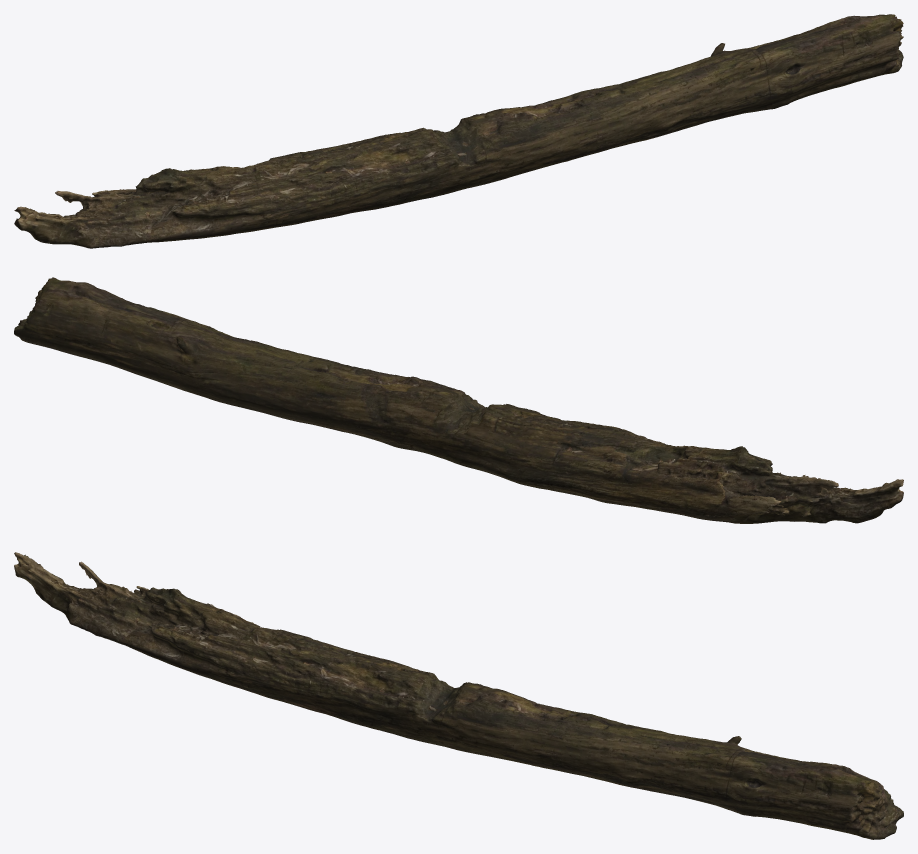
Rendered from dead_tree_trunk.glb.
3 renders of one model, top to bottom at view 1: azimuth 30°, elevation 25°; view 2: azimuth 150°, elevation 25°; view 3: azimuth 330°, elevation 25°, orthographic.
Visible parts, largest first — view 1: dead_tree_trunk; view 2: dead_tree_trunk; view 3: dead_tree_trunk.
Part boxes in pixels (left/top/right/bottom): dead_tree_trunk: left=14, top=14, right=903, bottom=248; dead_tree_trunk: left=14, top=277, right=903, bottom=523; dead_tree_trunk: left=14, top=552, right=903, bottom=839.
Bounding box in the file's own units: 3.05 × 0.2904 × 0.2775.
Materials: 1 (1 with a texture image).
